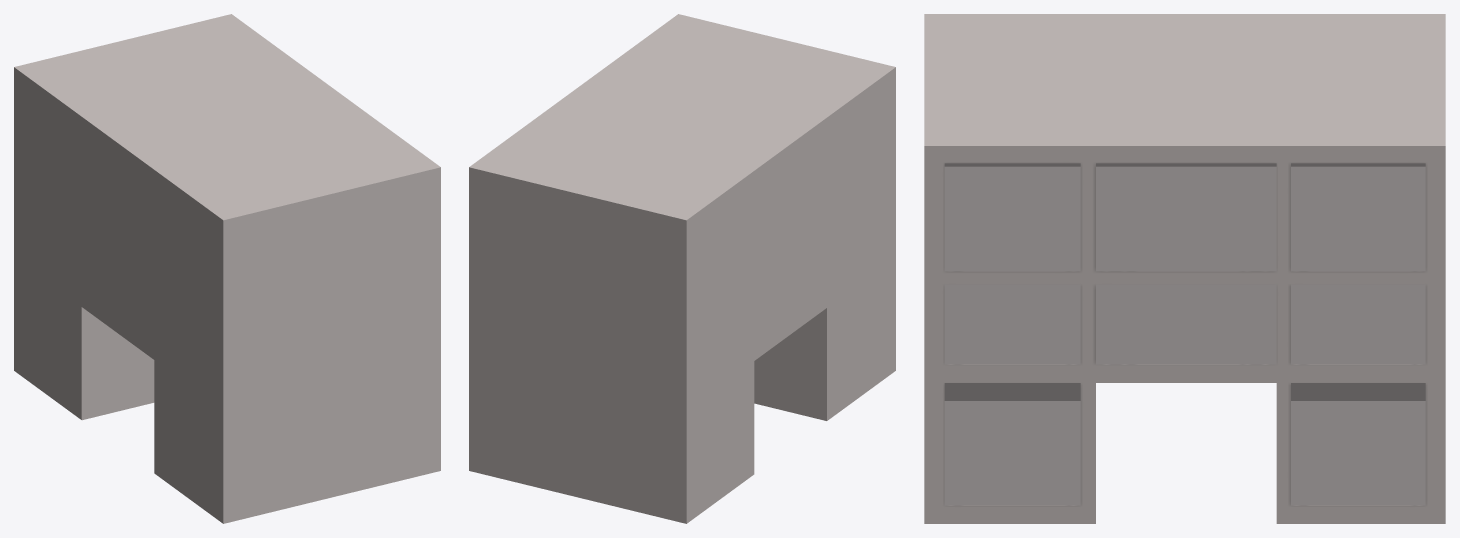
3 renders of one model, left to right at view 1: azimuth 30°, elevation 25°; view 2: azimuth 150°, elevation 25°; view 3: azimuth 270°, elevation 25°, orthographic. The views are drawn at different scales.
Visible parts, largest first — view 1: pCube1; view 2: pCube1; view 3: pCube1.
Part boxes in pixels (box(x1,y1,x2,y2)): pCube1: box(14, 14, 440, 523); pCube1: box(469, 14, 895, 523); pCube1: box(924, 14, 1445, 523).
Size of the model in its own units: 5.98 by 7.97 by 9.97.
